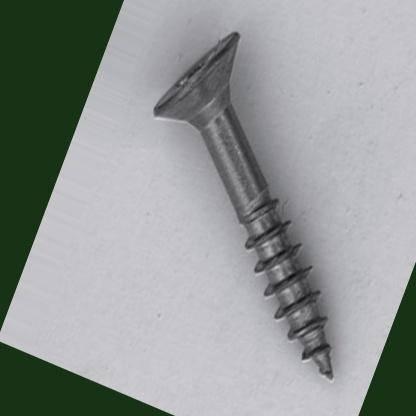metal: (152, 31, 334, 381)
